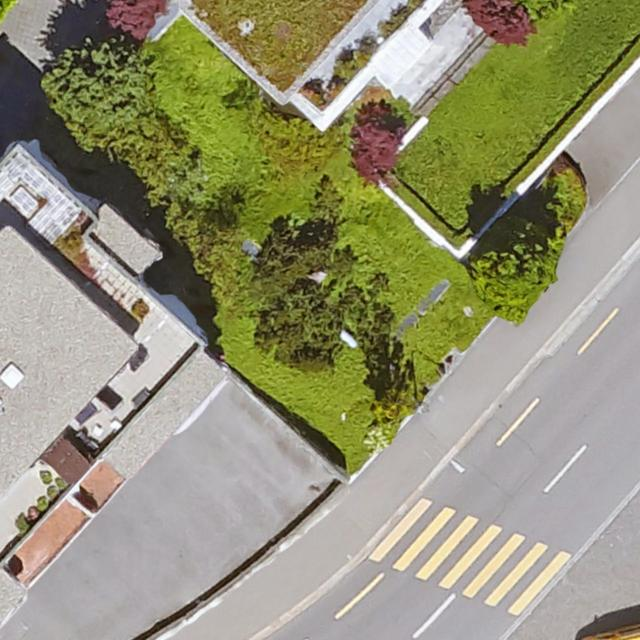tree: (44, 41, 161, 149), (471, 226, 560, 320), (259, 285, 342, 365), (350, 116, 404, 184), (466, 0, 535, 43), (104, 0, 168, 40), (381, 388, 413, 426)
